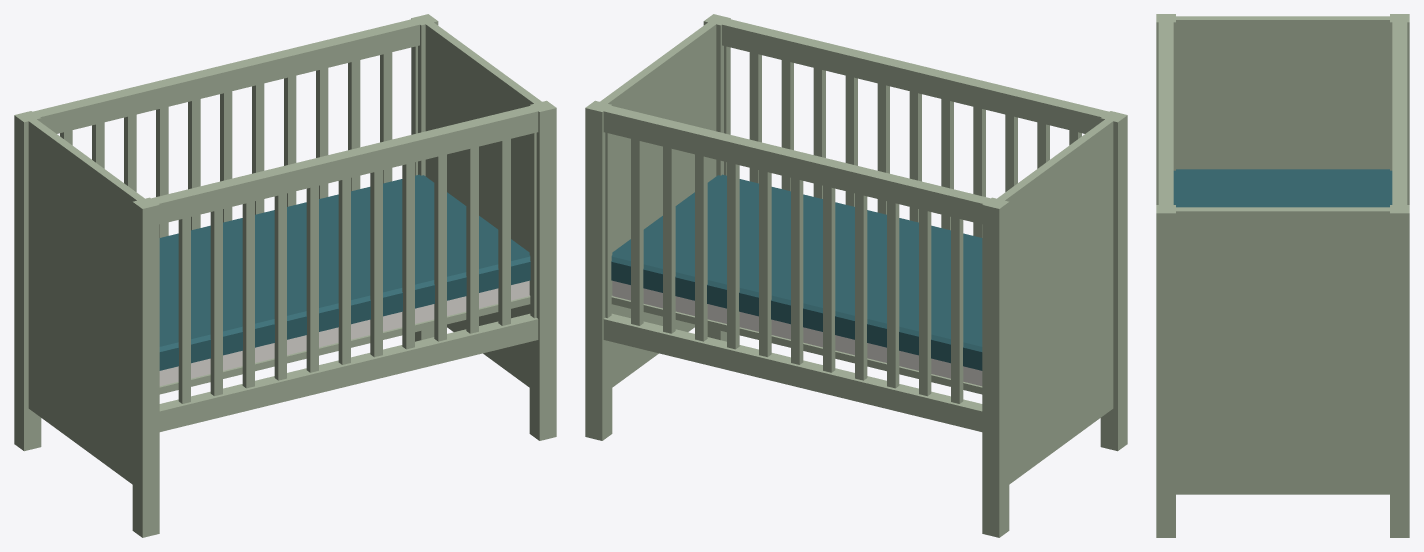
File: FN_Cot_Baby.glb
3 renders of one model, left to right at view 1: azimuth 30°, elevation 25°; view 2: azimuth 150°, elevation 25°; view 3: azimuth 270°, elevation 25°, orthographic.
Parts seen in each view (by area): view 1: FN_Cot_Baby; view 2: FN_Cot_Baby; view 3: FN_Cot_Baby.
Boxes of the visible parts, box(x1,y1,x2,y2) form: FN_Cot_Baby: box(14, 14, 556, 537); FN_Cot_Baby: box(585, 14, 1127, 537); FN_Cot_Baby: box(1156, 14, 1409, 537).
Size of the model in its own units: 1.25 by 0.95 by 0.672.
Materials: 1 (1 with a texture image).
